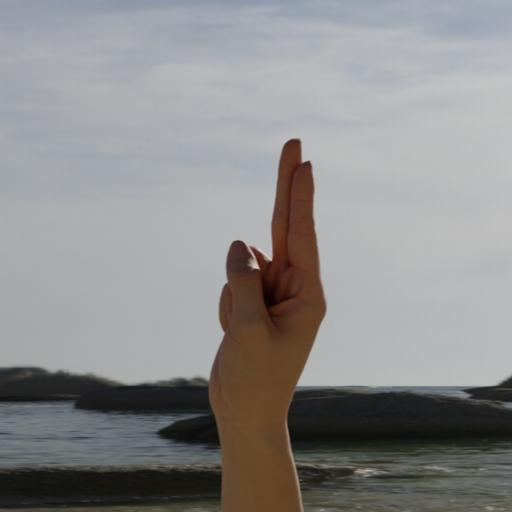U: (152, 106, 396, 485)
